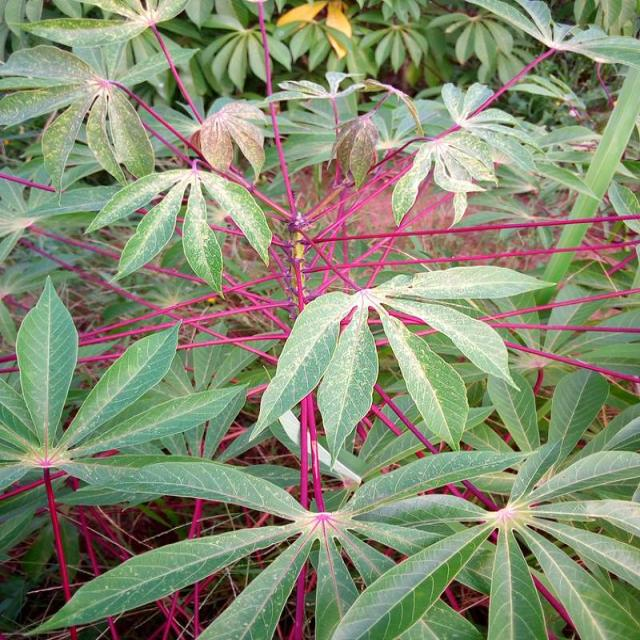cassava leaf: (1, 0, 638, 638), (247, 289, 356, 444), (375, 303, 469, 450), (15, 274, 78, 453)
